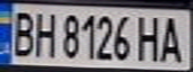1: (78, 10, 96, 60)
2: (93, 11, 115, 61)
6: (112, 12, 136, 62)
8: (57, 10, 81, 58)
A: (157, 12, 187, 63)
B: (6, 8, 39, 59)
H: (133, 12, 163, 62), (30, 8, 57, 59)
